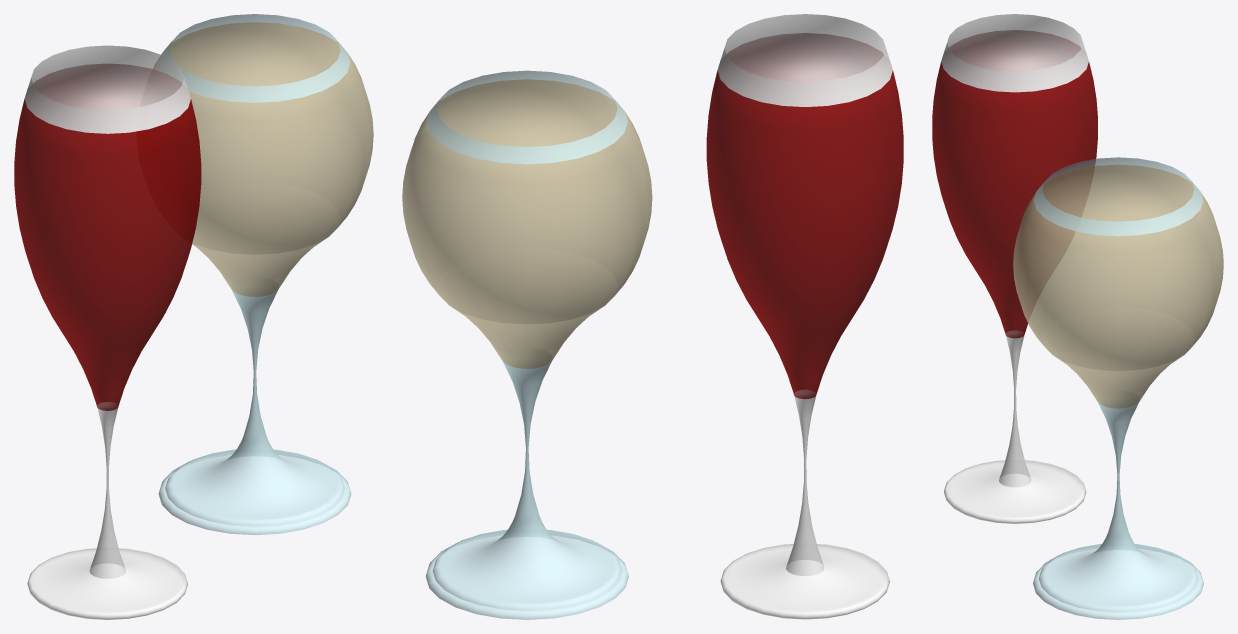
The model's file is sine_glases.fbx.
The picture shows the model from 3 angles, left to right: view 1: azimuth 30°, elevation 25°; view 2: azimuth 150°, elevation 25°; view 3: azimuth 270°, elevation 25°; orthographic projection. The views are drawn at different scales.
Visible parts, largest first — view 1: glass2_1, glass1; view 2: glass1, glass2_1; view 3: glass1, glass2_1.
Part boxes in pixels (x1,y1,x2,y2): glass2_1: (14,45,201,619); glass1: (153,14,373,534); glass1: (402,70,652,619); glass2_1: (706,14,903,619); glass1: (1013,157,1223,619); glass2_1: (932,14,1097,523).
Bounding box in the file's own units: 16.33 × 20.43 × 11.94.
